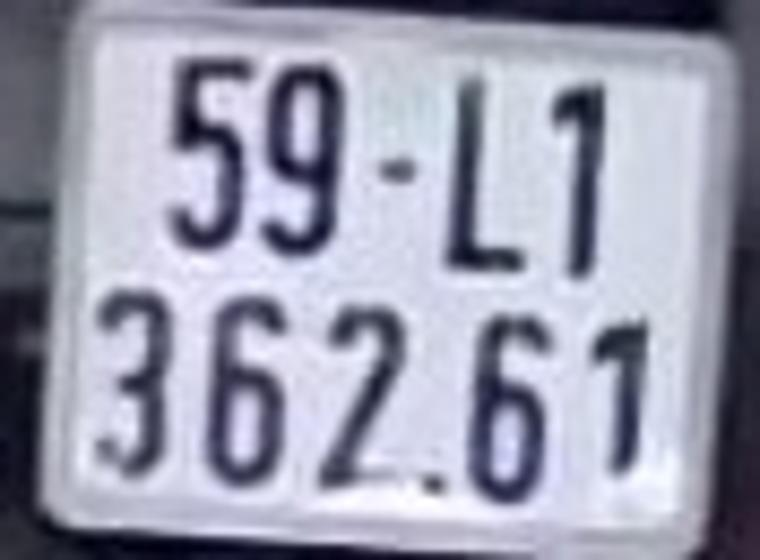-: (367, 154, 420, 189)
.: (414, 452, 449, 503)
1: (552, 75, 610, 290), (597, 314, 654, 489)
2: (321, 294, 408, 495)
3: (91, 276, 178, 493)
5: (164, 49, 258, 253)
6: (464, 300, 557, 513), (203, 289, 297, 498)
9: (263, 62, 350, 260)
L: (444, 75, 536, 278)
